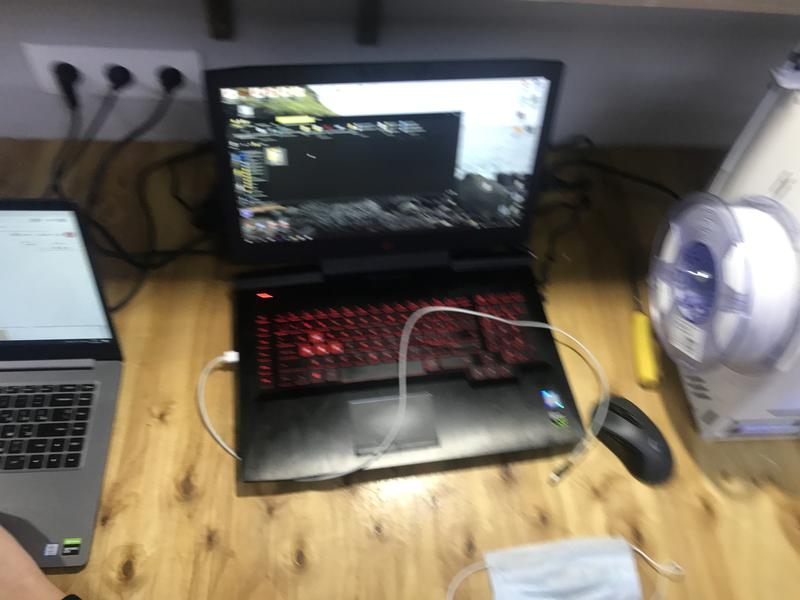medical_mask: (447, 535, 684, 600)
